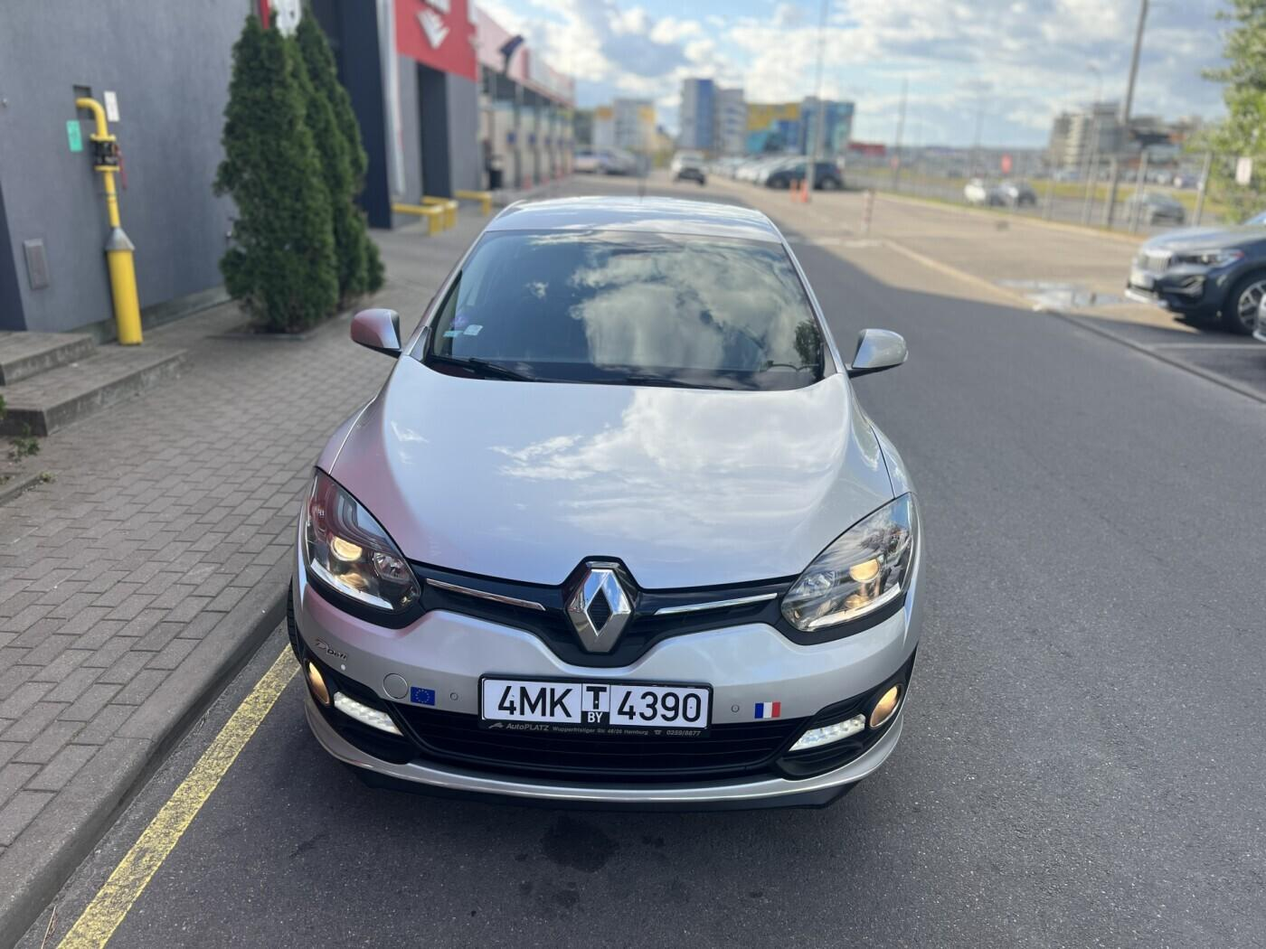Megane_2014-2016: (267, 183, 929, 808)
